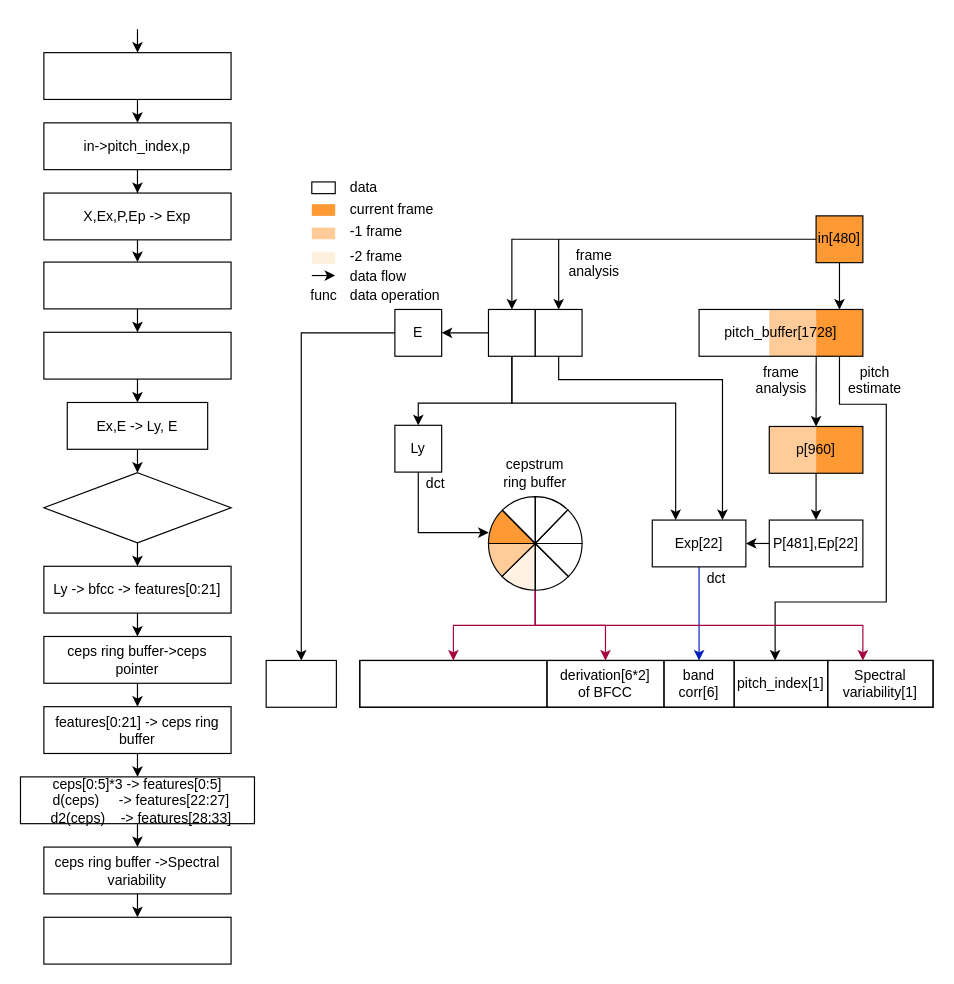
Some shapes in this 954 by 984 pixel diagram are drawn without their labels. Here are the shapes that lost their labels. From the top down, the centre of each, then its label:
(137,75): in -> X,Ex
(137,285): dct(Exp) -> features[34:39]
(511,332): Ex[22]
(558,332): X[481]
(137,355): pitch_index -> features[40]
(137,507): when not training and energy low
(300,683): silence
(453,683): BFCC[22] (cepstrum)
(137,940): E->silence
